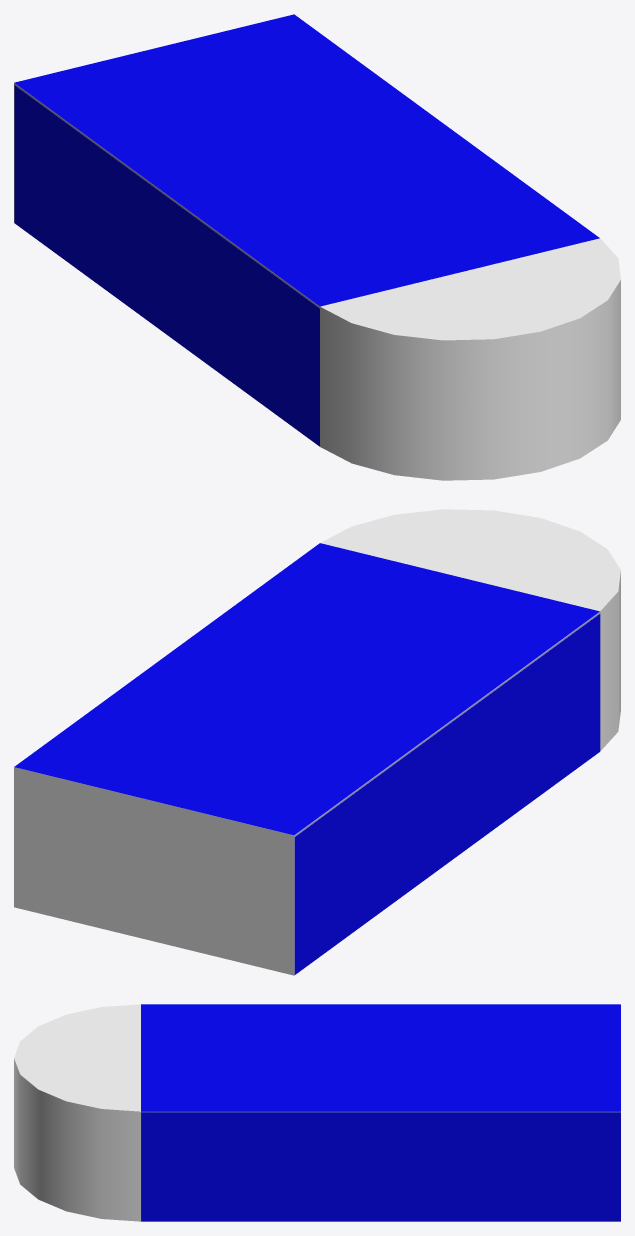
Rendered from eraser_01.glb.
3 views of the same model, one above another, from view 1: azimuth 30°, elevation 25°; view 2: azimuth 150°, elevation 25°; view 3: azimuth 270°, elevation 25° (orthographic). The views are drawn at different scales.
Parts seen in each view (by area): view 1: obj1; view 2: obj1; view 3: obj1.
Boxes of the visible parts, x1=… form: obj1: x1=14, y1=14, x2=620, y2=480; obj1: x1=14, y1=509, x2=620, y2=975; obj1: x1=14, y1=1004, x2=620, y2=1221.
Bounding box in the file's own units: 0.023 × 0.011 × 0.055.
Materials: 1 (1 with a texture image).
